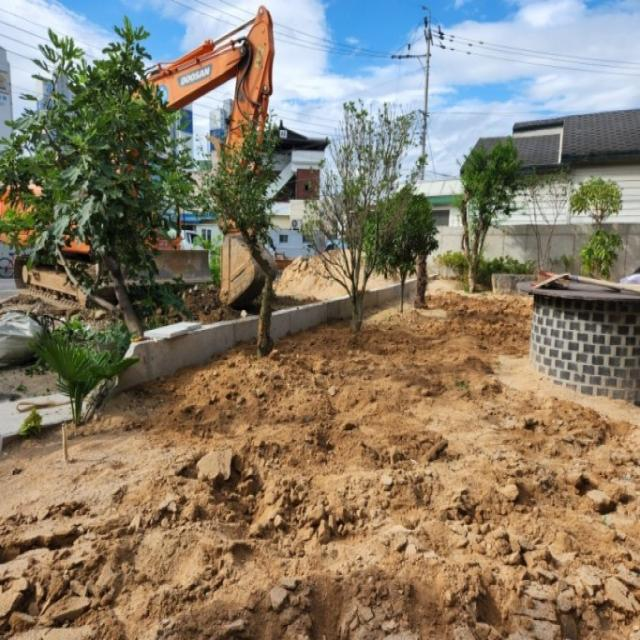excavator: (0, 5, 280, 318)
plant: (0, 16, 202, 343), (294, 97, 428, 345), (201, 110, 280, 358), (28, 322, 139, 426), (460, 136, 528, 292), (363, 190, 441, 314), (570, 175, 623, 278)
